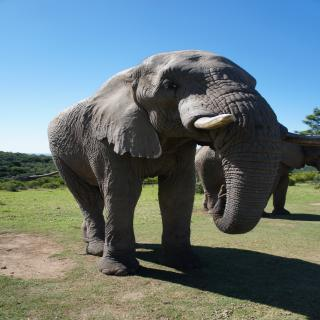Elephant: (43, 48, 290, 282)
